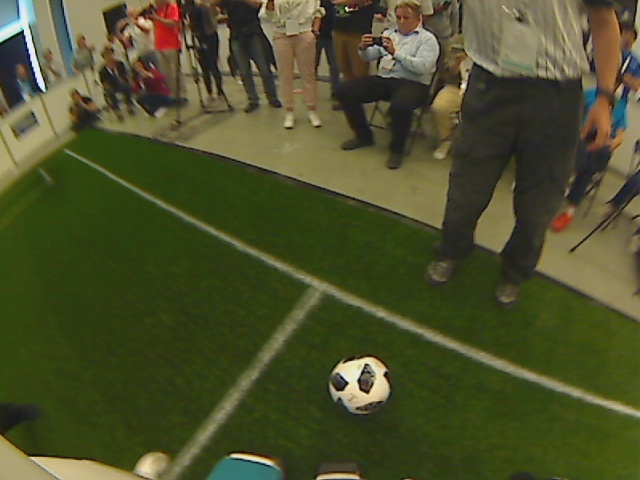ball: (326, 353, 393, 415)
